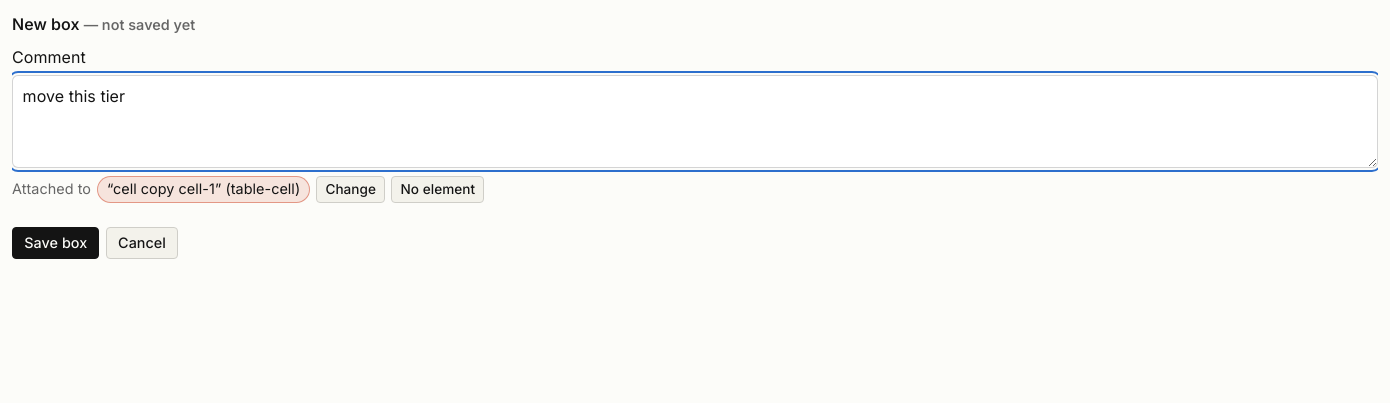
Scenario: the box draft (D079) › names the kind in the title, the save button, and the candidate legend
The width and height of the screenshot is (1390, 403).
Check: the text "New box — not saved yet" is shown, box [12, 14, 195, 34]
Check: the button "Save box" is enabled, box [12, 227, 100, 259]
Click the button "Change" at {"x": 351, "y": 189}, box [316, 176, 385, 203]
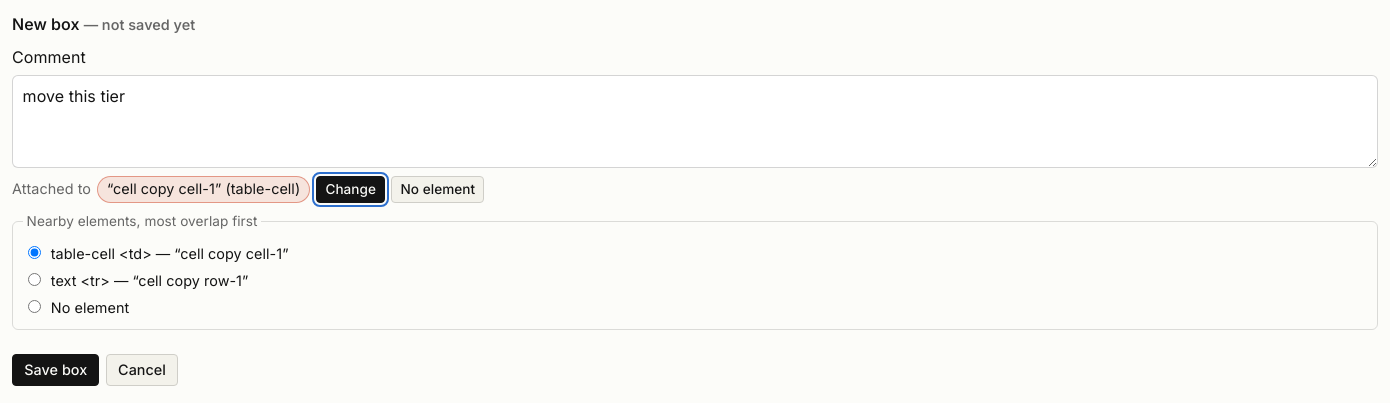
Check: the text "Nearby elements, most overlap first" is shown, box [23, 211, 262, 232]
